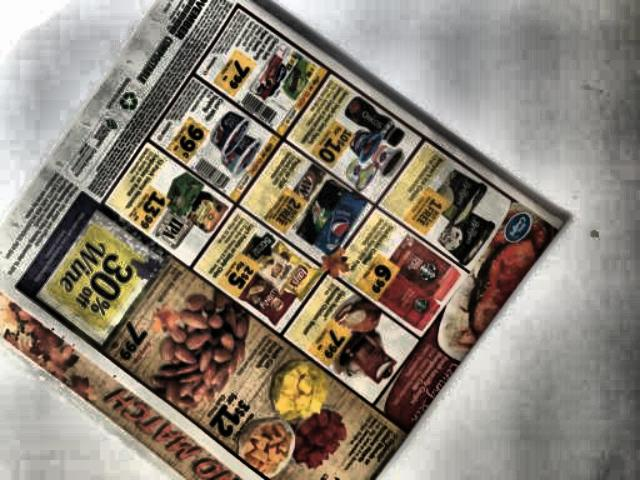Paper: (0, 0, 564, 480)
